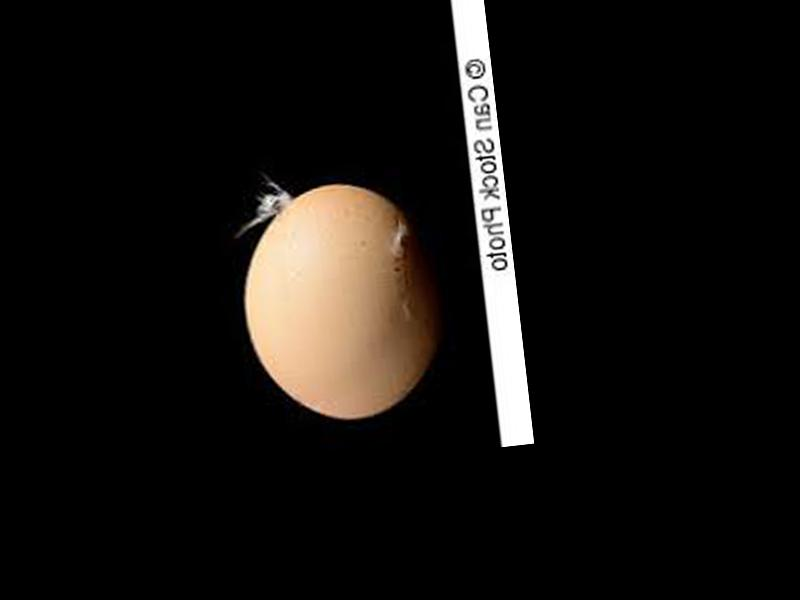Eggs: (234, 174, 453, 430)
